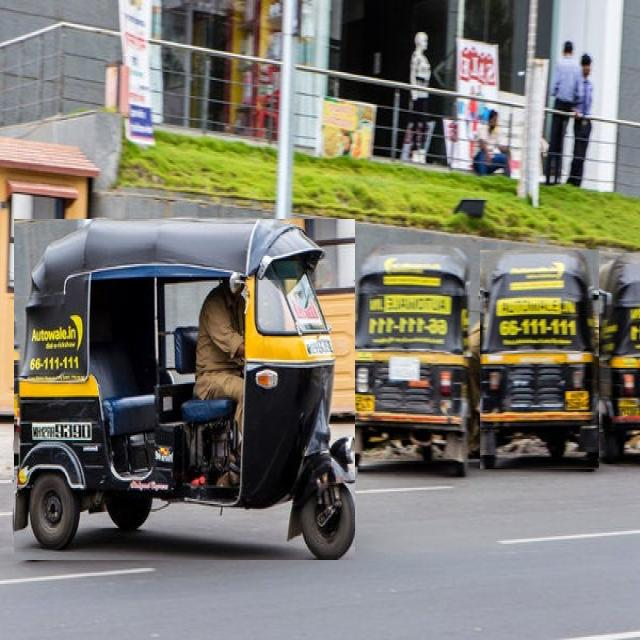autorickshaw: (14, 219, 355, 560), (350, 246, 469, 475), (480, 251, 599, 469), (596, 255, 640, 460)
